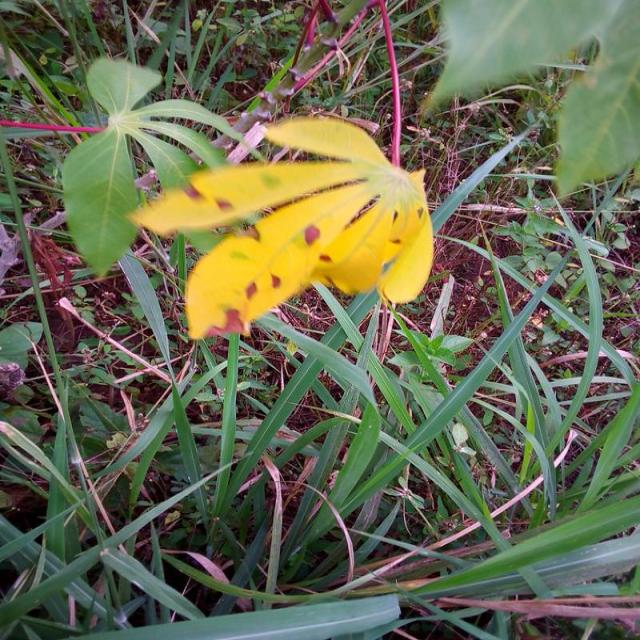cassava leaf: (128, 113, 436, 341), (61, 54, 245, 278)
